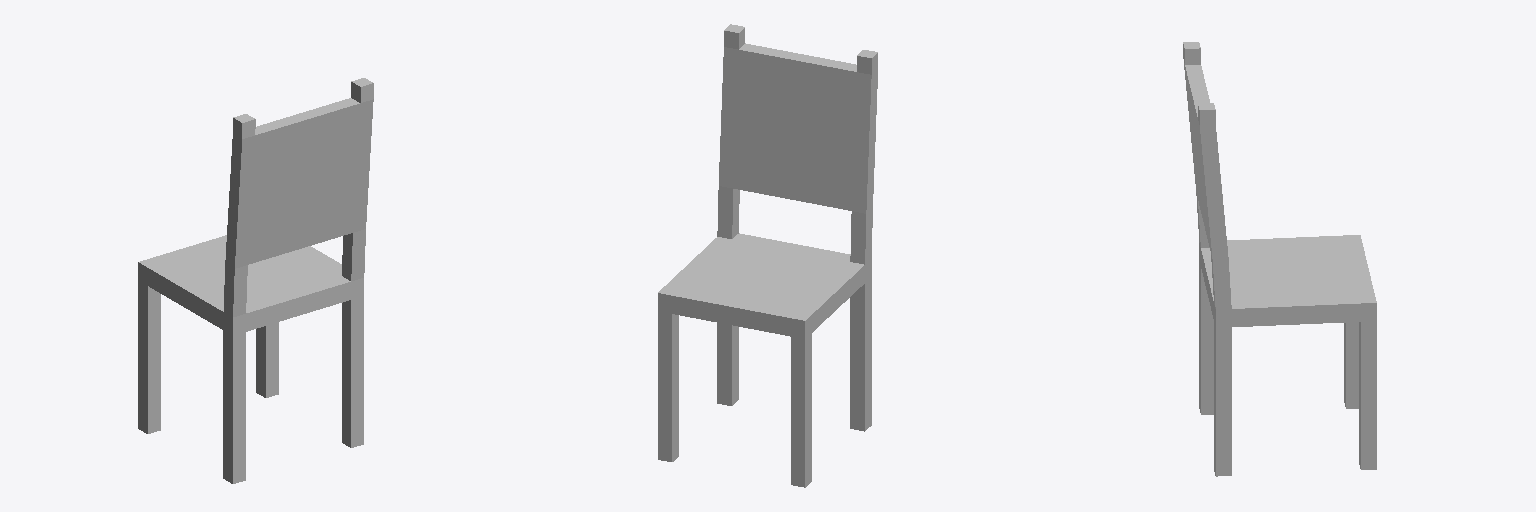
The model's file is Silla2.obj.
3 views of the same model, side by side, from view 1: azimuth 30°, elevation 25°; view 2: azimuth 150°, elevation 25°; view 3: azimuth 270°, elevation 25° (orthographic).
Parts seen in each view (by area): view 1: Cubo.006; view 2: Cubo.006; view 3: Cubo.006.
Boxes of the visible parts, box(x1,y1,x2,y2) form: Cubo.006: box(138, 78, 373, 483); Cubo.006: box(658, 24, 877, 487); Cubo.006: box(1183, 42, 1376, 476).
Size of the model in its own units: 0.5949 by 1.34 by 0.6432.